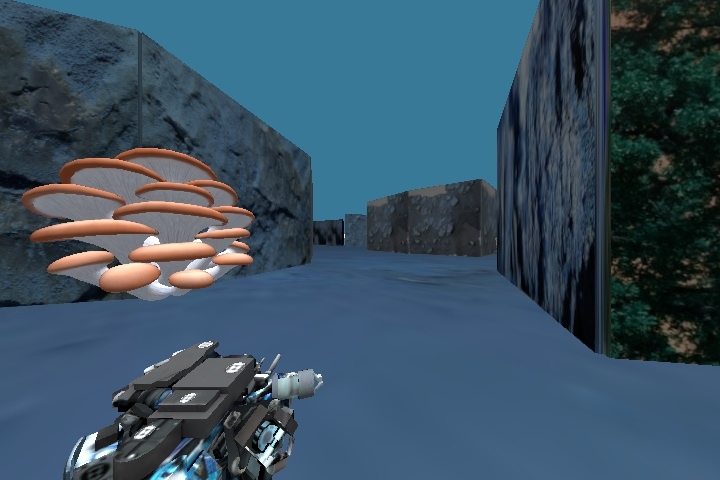mushrooms: (13, 127, 256, 311)
